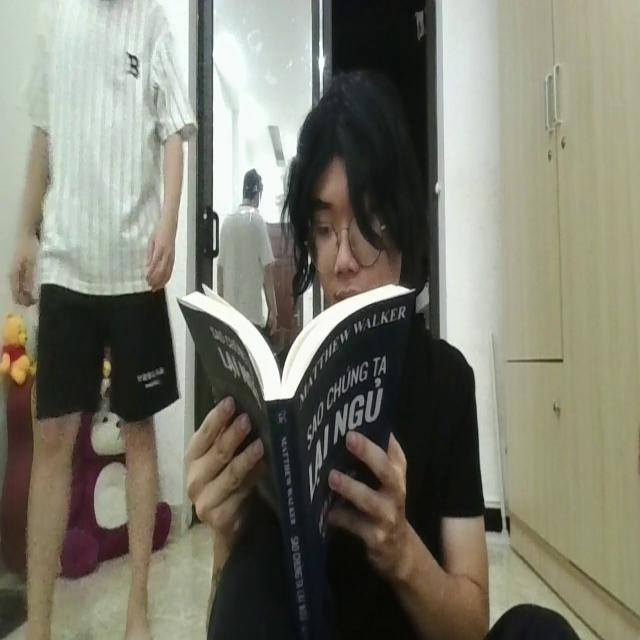book: (185, 278, 410, 616)
extra_person: (8, 0, 190, 640)
student: (183, 66, 493, 640)
